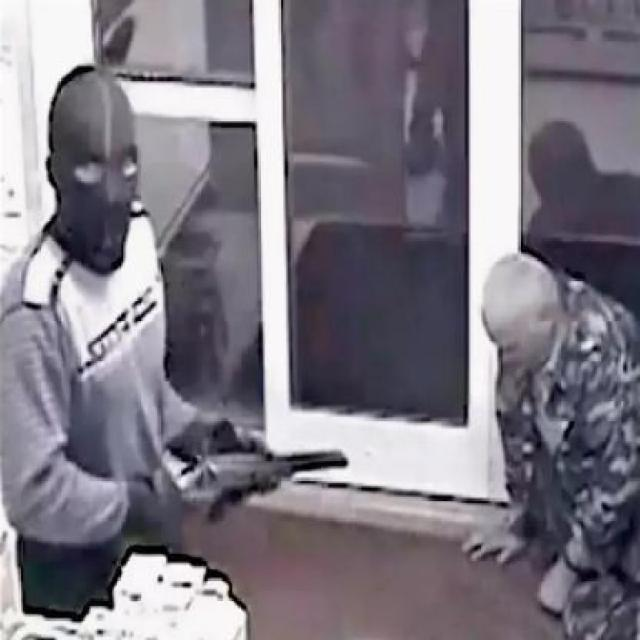weapon: (162, 426, 367, 534)
